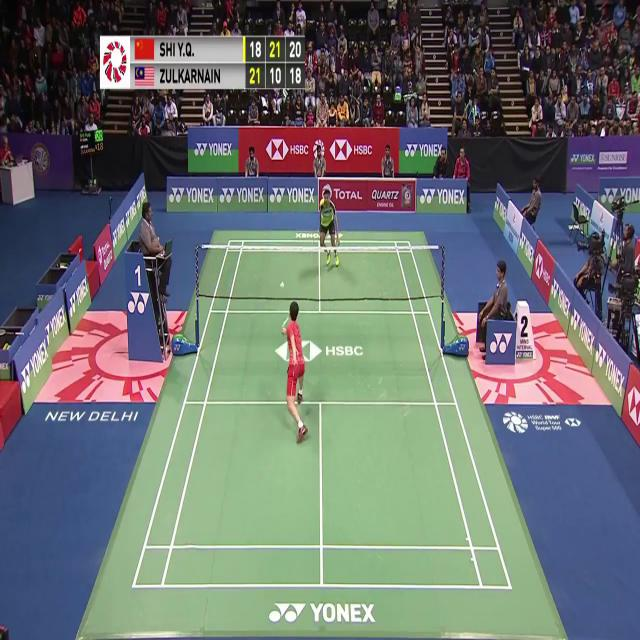Shuttlecock: (277, 280, 284, 291)
